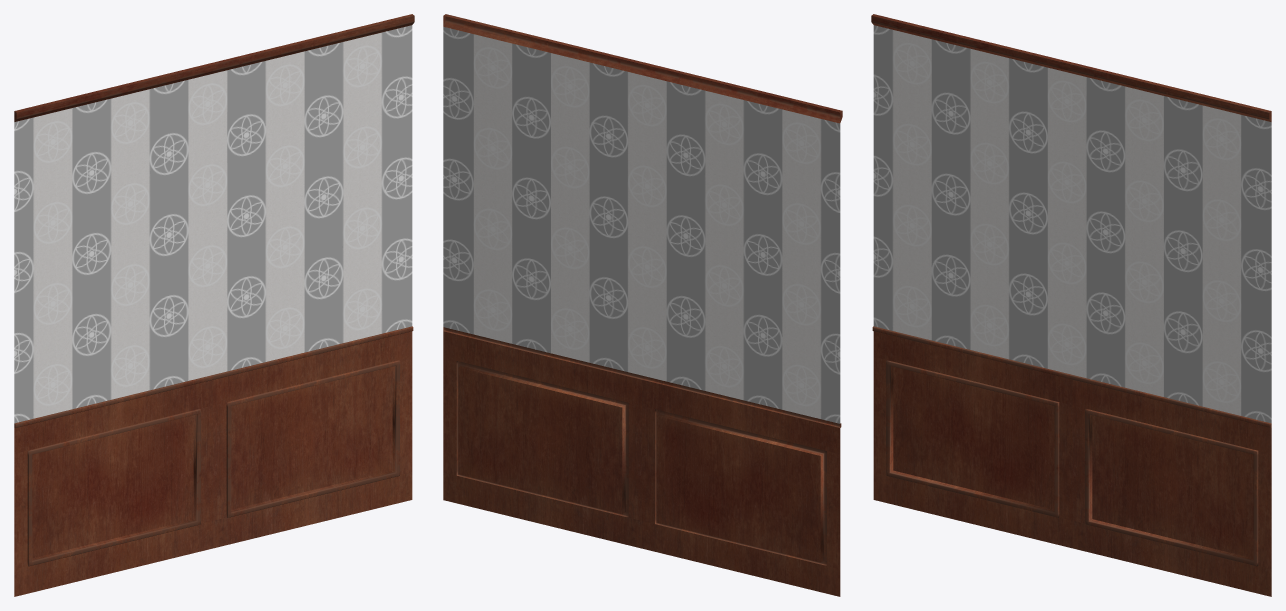
Rendered from WallNiche03_300cm.FBX.
3 views of the same model, side by side, from view 1: azimuth 30°, elevation 25°; view 2: azimuth 150°, elevation 25°; view 3: azimuth 330°, elevation 25° (orthographic).
Parts seen in each view (by area): view 1: WallNiche03_300cm; view 2: WallNiche03_300cm; view 3: WallNiche03_300cm.
Part boxes in pixels (x1=…): WallNiche03_300cm: x1=14, y1=14, x2=414, y2=596; WallNiche03_300cm: x1=443, y1=14, x2=842, y2=596; WallNiche03_300cm: x1=871, y1=14, x2=1271, y2=596.
Bounding box in the file's own units: 3000 × 3500 × 60.
